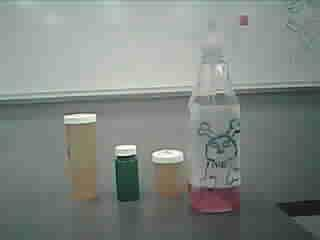Bottle A: (57, 107, 101, 207)
Bottle B: (151, 140, 186, 200)
Bottle C: (109, 139, 146, 204)
hazard: (179, 7, 257, 223)
